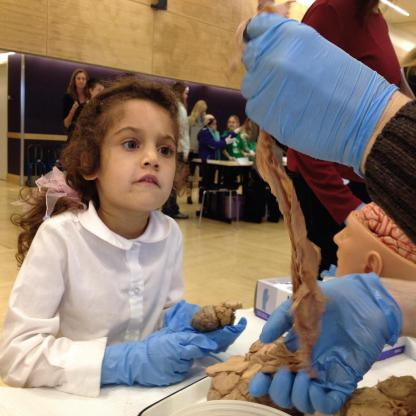face: (99, 103, 178, 213), (93, 86, 105, 104), (76, 74, 87, 88), (181, 87, 190, 104), (230, 118, 237, 131), (211, 120, 218, 132)
